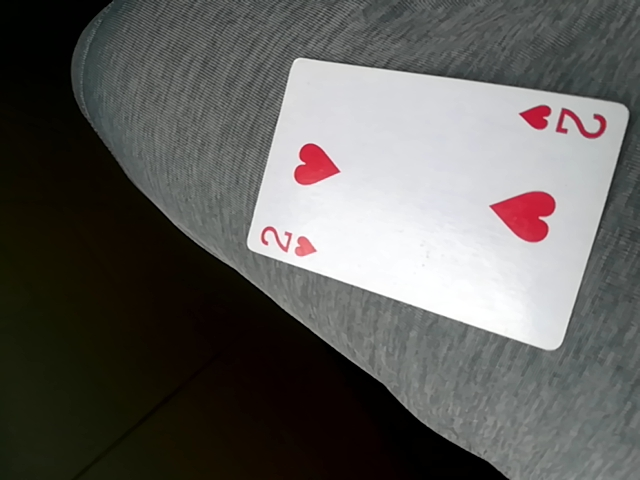hx 2: (249, 53, 629, 352)
